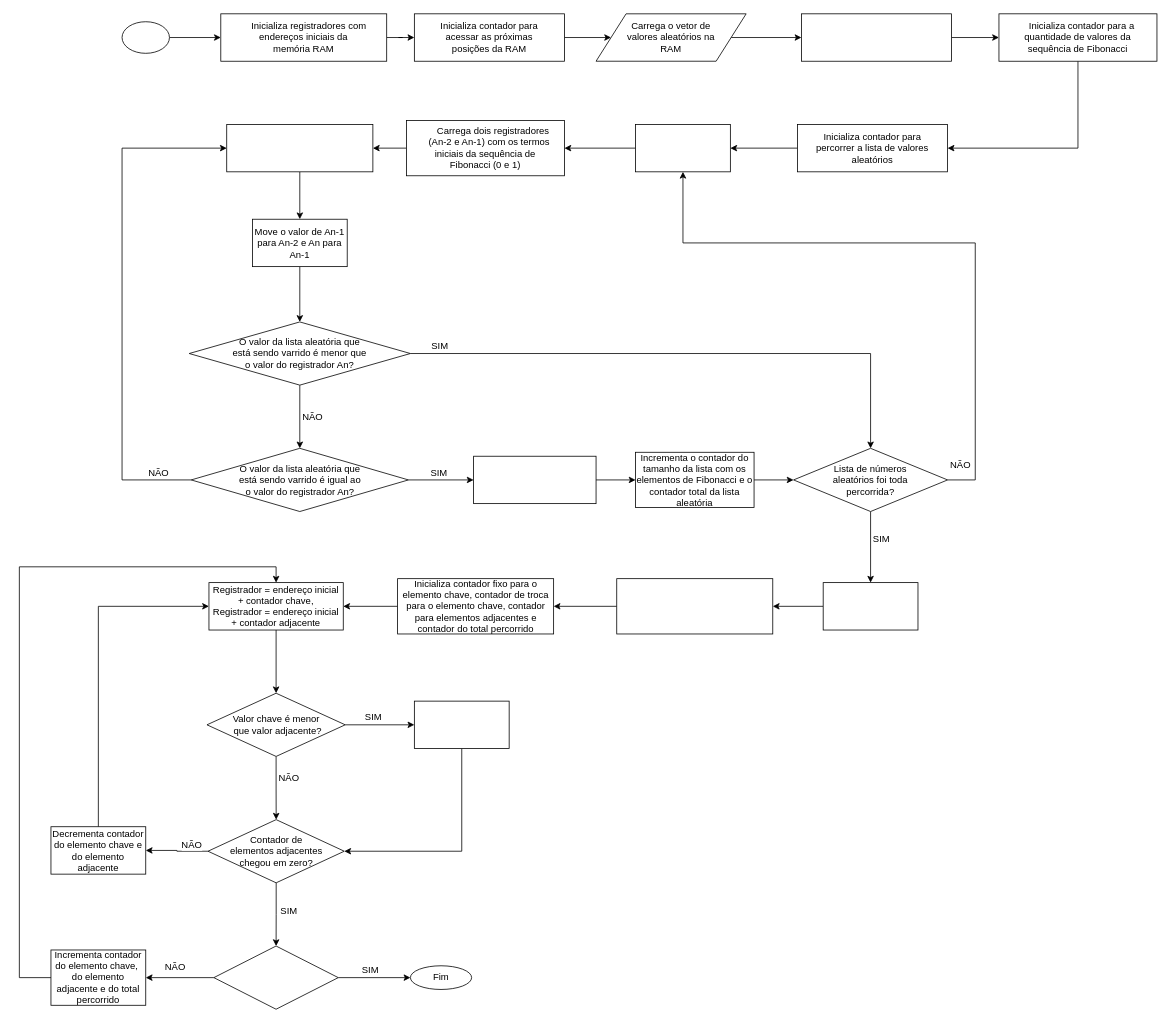
Some shapes in this 1171 by 1023 pixel diagram are drawn without their labels. Each missing label, with the centre of its shape:
"A lista a ser ordenada foi toda percorrida?" goes at pixel 275 977.
"Carrega registrador com o endereço inicial da RAM com a lista a ser ordenada" goes at pixel 694 606.
"Carrega registrador com o próximo valor da lista aleatória" goes at pixel 682 148.
"Carrega registradores com endereços iniciai s da memória RAM" goes at pixel 876 37.
"Carrega um registrador (An) com a soma dos dois termos anteriores (An-1 e An-2)" goes at pixel 299 148.
"Inicia insertion sort" goes at pixel 870 606.
"Início" goes at pixel 145 37.
"Salva o número pertencente a Fibonacci na memória RAM" goes at pixel 534 479.
"Troca os valores de posição" goes at pixel 461 724.
